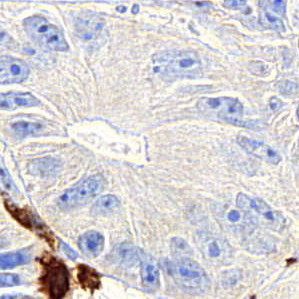Lymphocyte: (76, 262, 102, 290)
